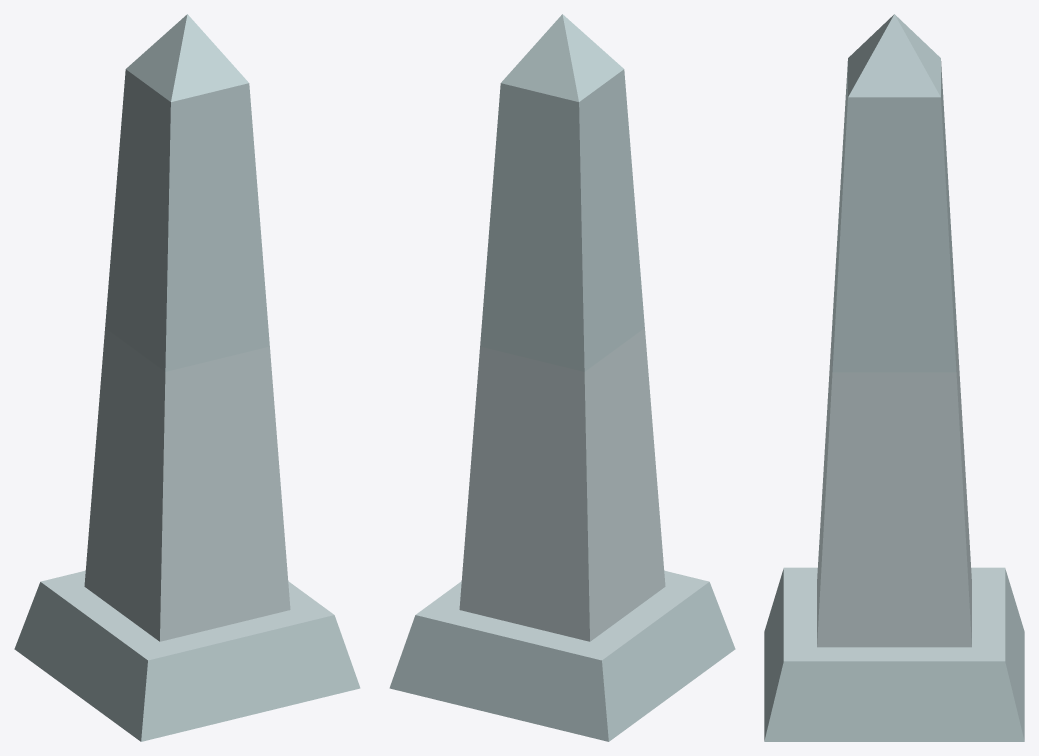
File: statue_obelisk.opt.glb
3 renders of one model, left to right at view 1: azimuth 30°, elevation 25°; view 2: azimuth 150°, elevation 25°; view 3: azimuth 270°, elevation 25°, orthographic. The views are drawn at different scales.
Visible parts, largest first — view 1: statue_obelisk; view 2: statue_obelisk; view 3: statue_obelisk.
Boxes of the visible parts, bbox=[...] form: statue_obelisk: bbox=[14, 14, 360, 741]; statue_obelisk: bbox=[389, 14, 735, 741]; statue_obelisk: bbox=[764, 14, 1024, 741].
Bounding box in the file's own units: 0.307 × 0.8754 × 0.307.
